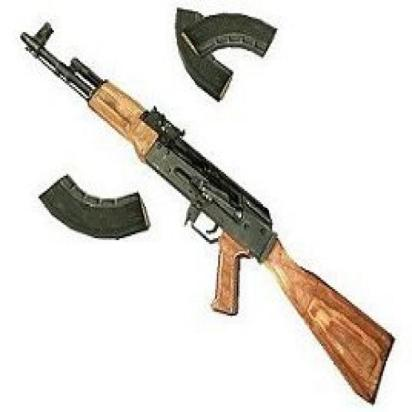Gun: (19, 35, 395, 402)
